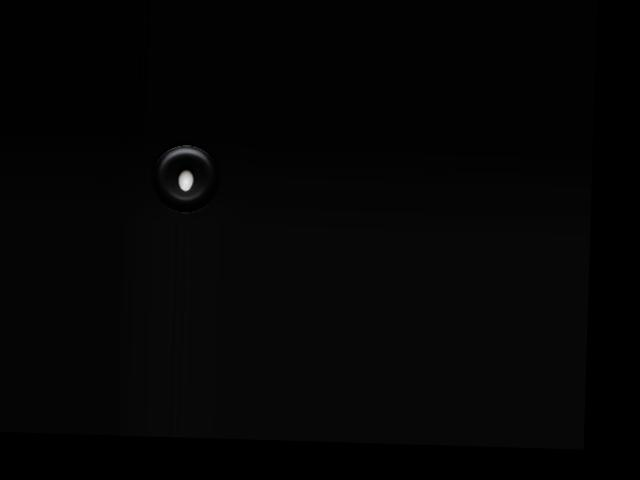egg: (178, 169, 194, 190)
